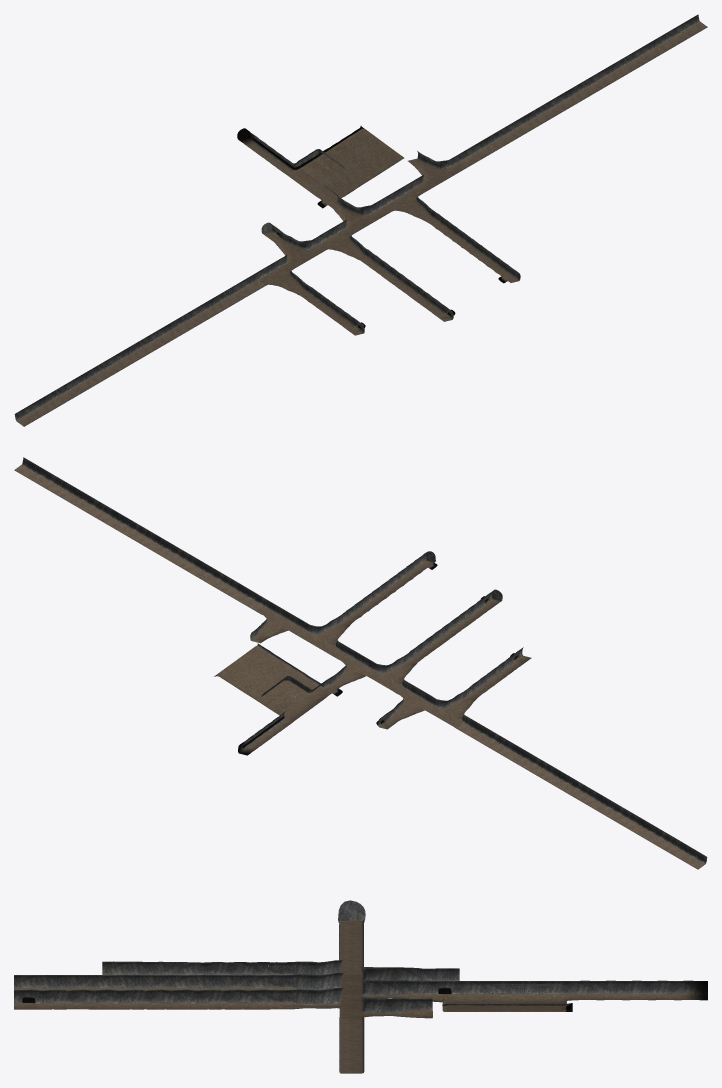
The model's file is SlopeB.glb.
The picture shows the model from 3 angles, top to bottom: view 1: azimuth 30°, elevation 25°; view 2: azimuth 150°, elevation 25°; view 3: azimuth 270°, elevation 25°; orthographic projection. The views are drawn at different scales.
Visible parts, largest first — view 1: SlopeB; view 2: SlopeB; view 3: SlopeB.
Part boxes in pixels (left/top/right/bottom): SlopeB: left=14, top=14, right=707, bottom=426; SlopeB: left=14, top=457, right=707, bottom=869; SlopeB: left=14, top=900, right=707, bottom=1073.
Size of the model in its own units: 146 by 49.78 by 84.67.
6 materials, 6 textured.
